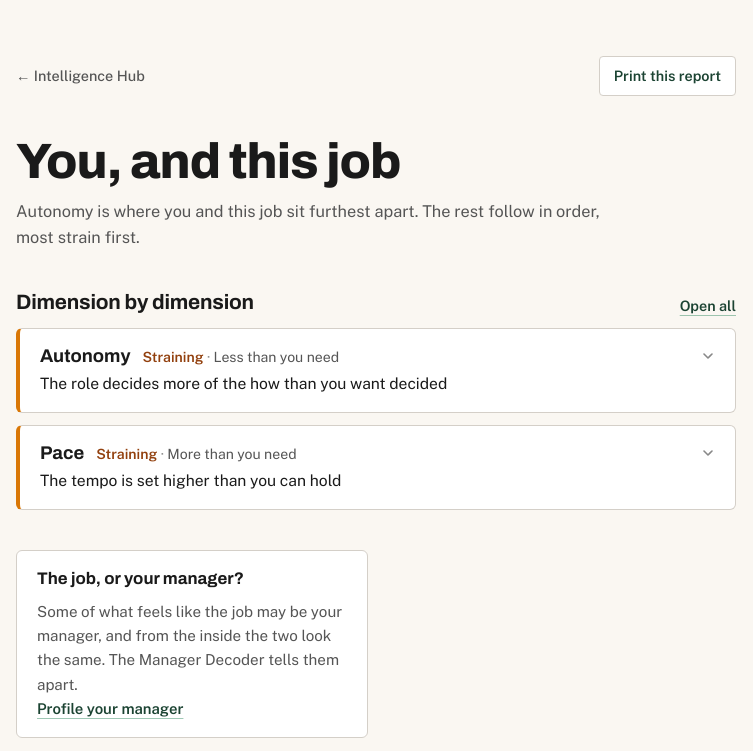
it: SituationReportPage › condition experiments (BUILD_PLAN B-5) › offers no start button and shows a retry notice when experiments fail to load
The width and height of the screenshot is (753, 751).
Expected: the heading "You, and this job" is shown, top-left (16, 134), bottom-right (400, 188)
Click the button named "Show guidance for" in the row of "Less than you need" at [378, 371], box top-left (20, 329), bottom-right (735, 412)
(page scrolled)
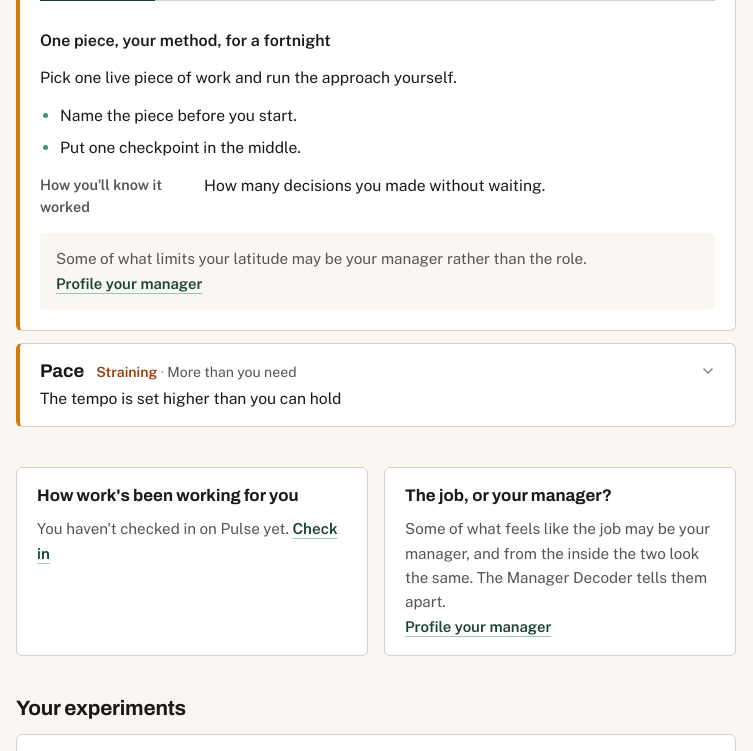
Click the button named "Show guidance for" at [378, 385], box top-left (20, 344), bottom-right (735, 426)
(page scrolled)
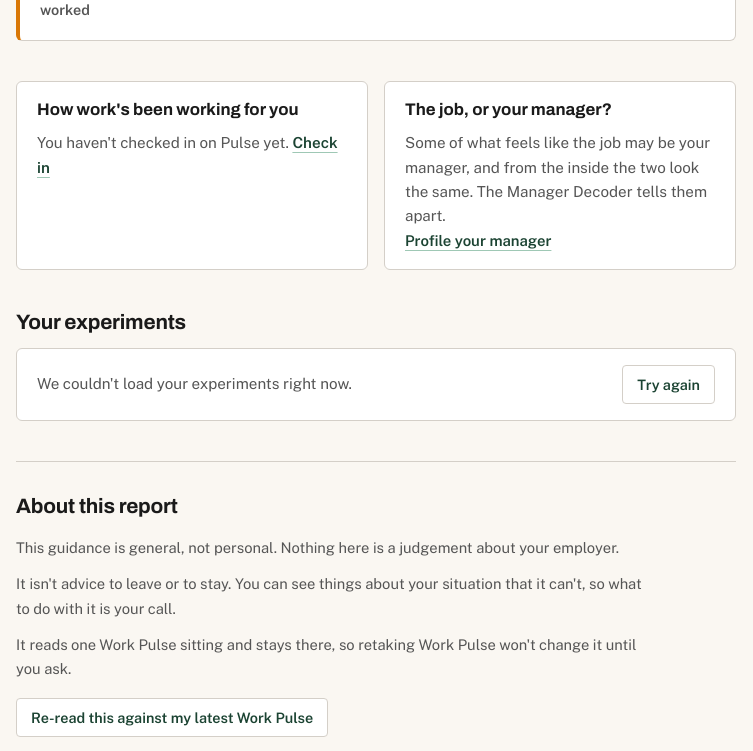
Expected: the button "Try this for two weeks" is not shown
Click the button "Try again" at [669, 384], box top-left (622, 364), bottom-right (715, 404)
(page scrolled)
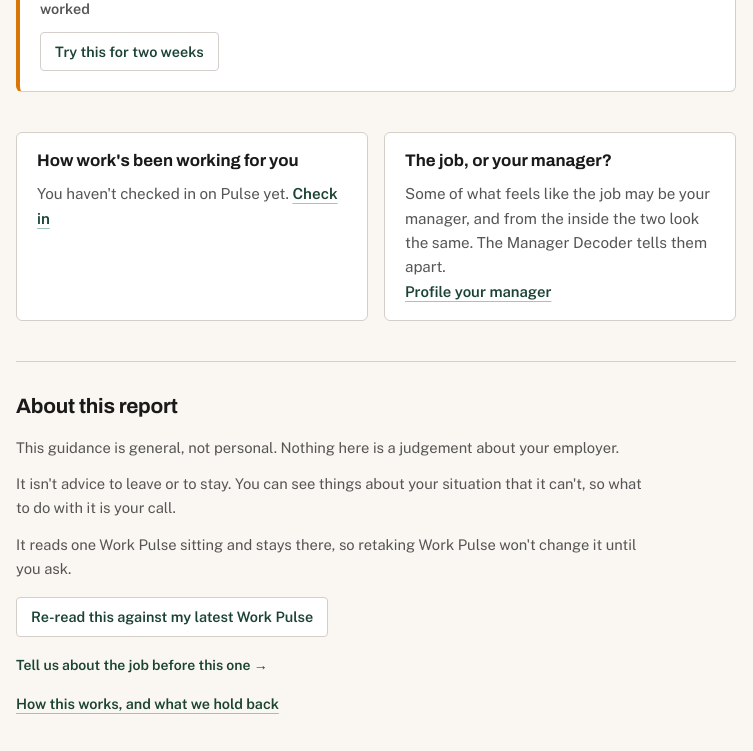
Result: the number of buttons "Try this for two weeks" is 2
